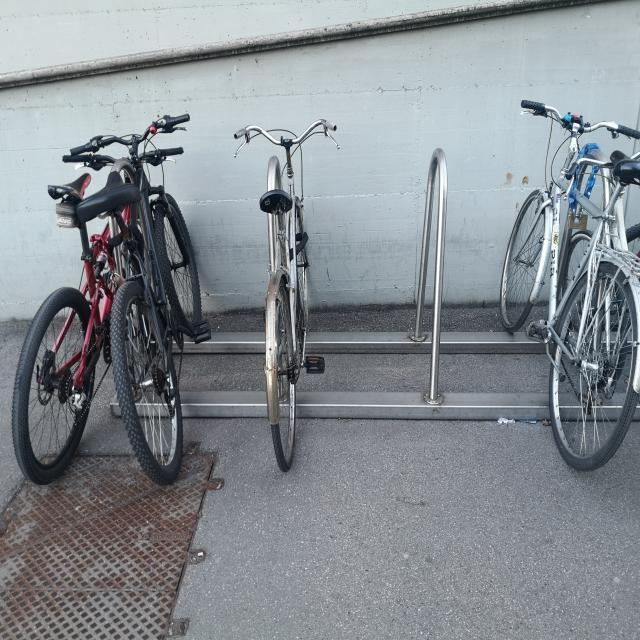Bicycle: (4, 92, 193, 489), (509, 76, 640, 508), (110, 84, 230, 487), (239, 92, 349, 498)
